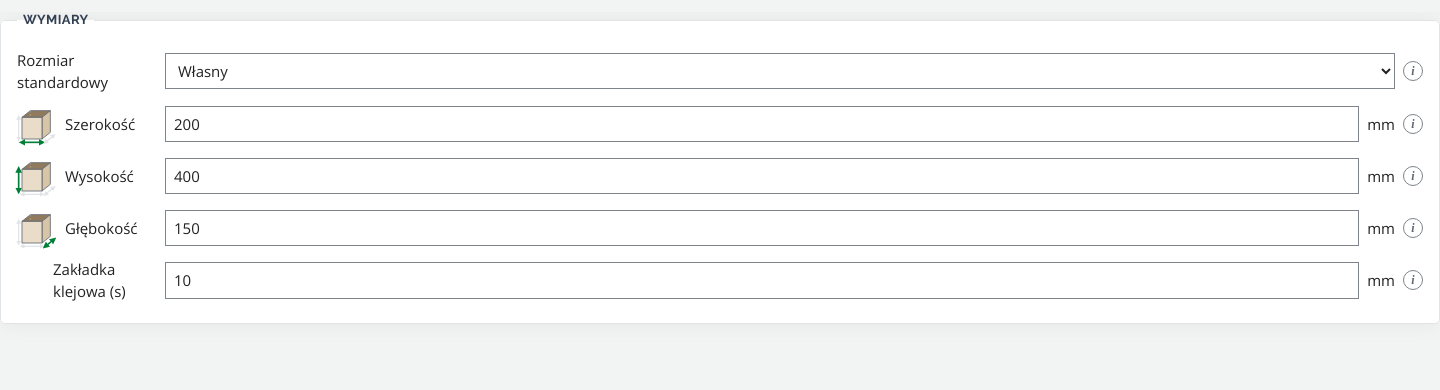
Test case: DimensionsForm — width/depth lock › commits the clamped depth on Enter
Replace the text in the number field labelled "Głębokość" with "260" at (762, 228), box [165,210,1359,246]
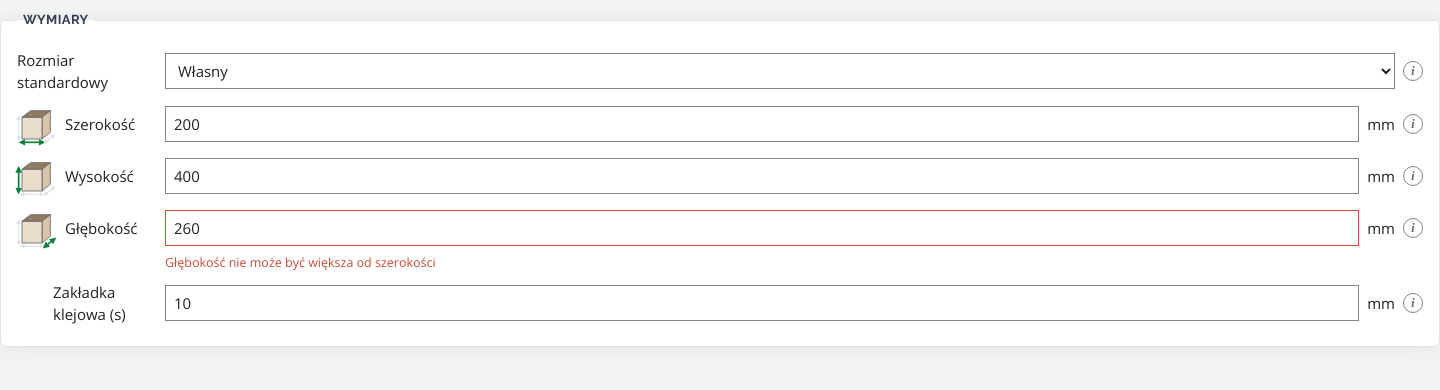
Press Enter in the number field labelled "Głębokość", box [165,210,1359,246]
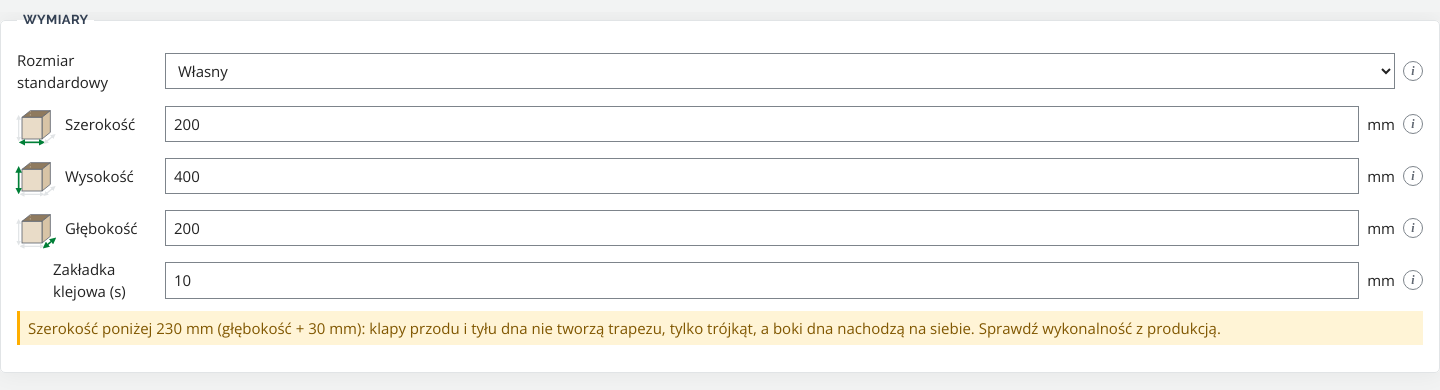
Check: the number field labelled "Głębokość" holds "200", box [165,210,1359,246]
